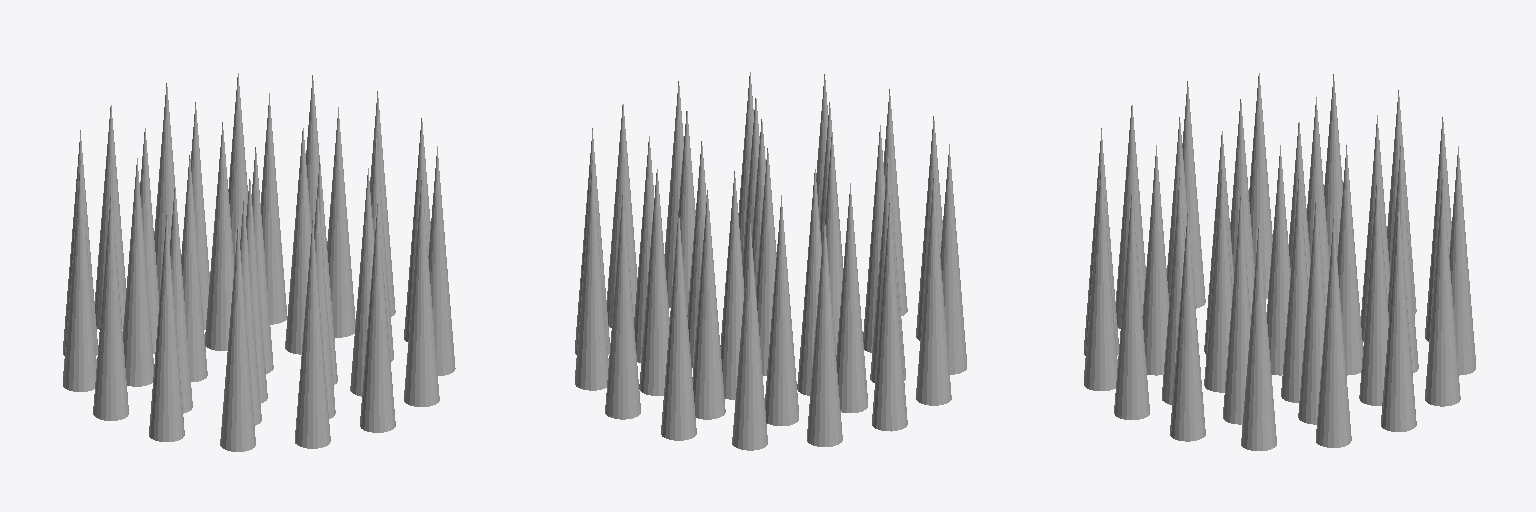
Rendered from OBJTrap.obj.
The picture shows the model from 3 angles: view 1: azimuth 30°, elevation 25°; view 2: azimuth 150°, elevation 25°; view 3: azimuth 270°, elevation 25°; orthographic projection.
Visible parts, largest first — view 1: pCone8, pCone5, pCone9, pCone6, pCone7, pCone10, pCone4, group pasted__pCone3, pasted__pCone16 group1, group pasted__pCone9, pCone11, group pasted__pCone10 (+19 smaller); view 2: pCone15, pCone3, pCone2, pCone1, pCone5, pCone4, group pasted__pCone2, pCone14, pasted__pCone1 group, group pasted__pCone3, group pasted__pCone10, pCone6 (+19 smaller); view 3: pCone13, pCone10, pCone11, pCone12, pCone15, pCone14, pCone9, group pasted__pCone10, group pasted__pCone6, pasted__pCone16 group4, group pasted__pCone8, group pasted__pCone9 (+19 smaller).
Boxes of the visible parts, x1,y1,x2,y2 form: pCone8: [295, 220, 330, 448]; pCone5: [93, 195, 128, 420]; pCone9: [360, 204, 395, 432]; pCone6: [149, 215, 184, 441]; pCone7: [220, 225, 255, 451]; pCone10: [404, 180, 439, 406]; pCone4: [63, 161, 96, 391]; group pasted__pCone3: [123, 158, 153, 386]; pasted__pCone16 group1: [205, 122, 233, 350]; group pasted__pCone9: [327, 107, 355, 337]; pCone11: [428, 146, 455, 375]; group pasted__pCone10: [261, 93, 286, 324]; pCone15: [605, 194, 640, 419]; pCone3: [807, 219, 842, 446]; pCone2: [732, 223, 767, 450]; pCone1: [661, 213, 696, 440]; pCone5: [916, 178, 951, 405]; pCone4: [872, 203, 907, 431]; group pasted__pCone2: [765, 195, 798, 425]; pCone14: [575, 160, 608, 390]; pasted__pCone1 group: [692, 190, 725, 419]; group pasted__pCone3: [836, 183, 867, 412]; group pasted__pCone10: [639, 169, 669, 395]; pCone6: [940, 144, 966, 374]; pCone13: [1316, 219, 1351, 447]; pCone10: [1114, 195, 1149, 419]; pCone11: [1170, 214, 1205, 441]; pCone12: [1241, 225, 1276, 450]; pCone15: [1425, 179, 1460, 406]; pCone14: [1381, 203, 1416, 431]; pCone9: [1084, 160, 1117, 390]; group pasted__pCone10: [1359, 176, 1388, 405]; group pasted__pCone6: [1142, 145, 1168, 375]; pasted__pCone16 group4: [1204, 165, 1232, 392]; group pasted__pCone8: [1223, 197, 1250, 424]; group pasted__pCone9: [1298, 196, 1325, 424].
Bounding box in the file's own units: 8.41 × 5.26 × 8.37.